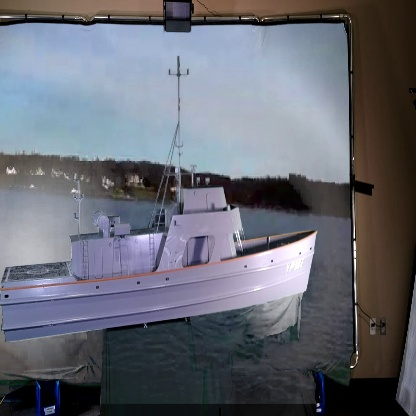YP689: (0, 56, 319, 347)
